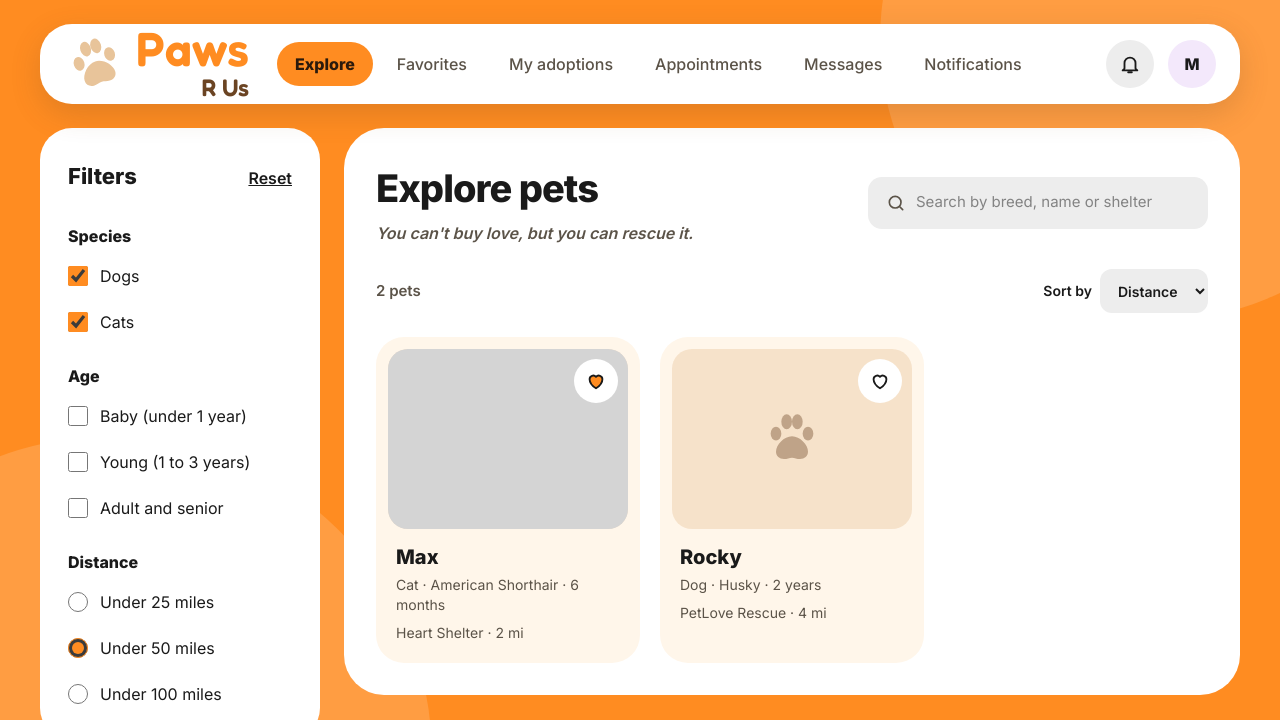
Test: App routing › hides dogs when the Dogs box is unticked
The image size is (1280, 720).
Click the checkbox labelled "Dogs" at [78, 276], box [68,266,88,286]
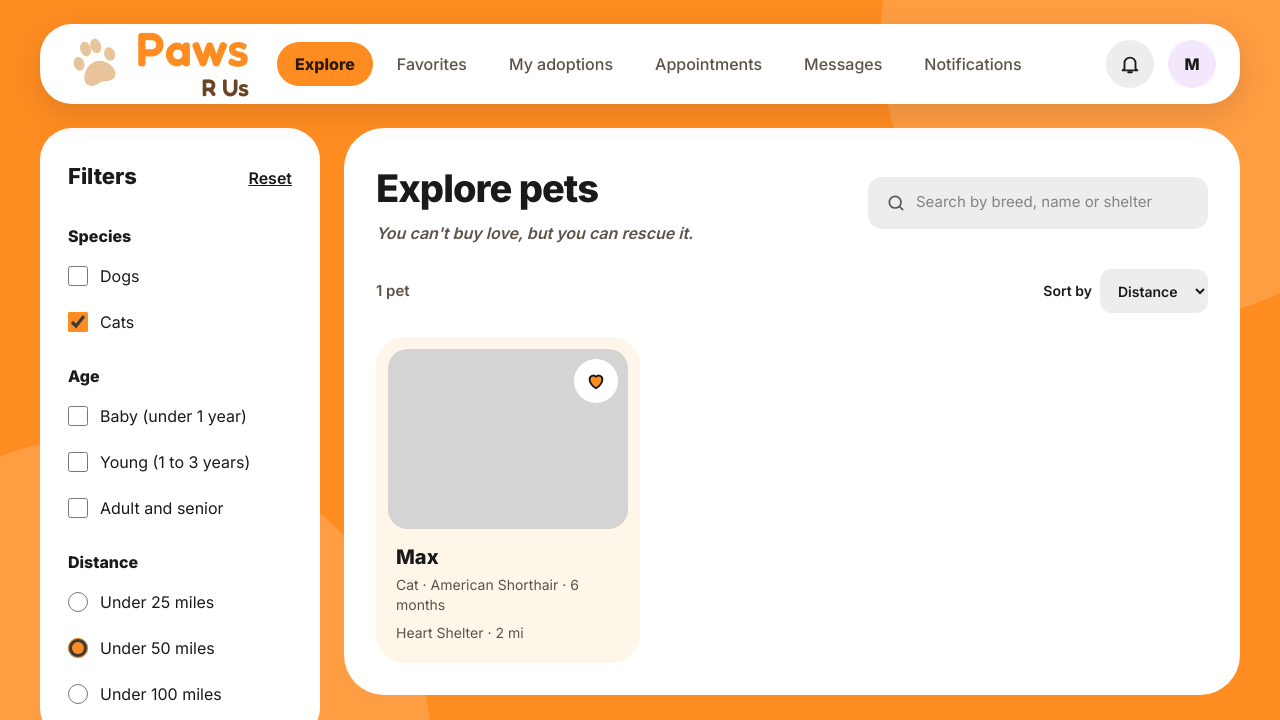
Check: the text "1 pet" is shown, box [376,280,410,302]
Check: the link "PetLove Rescue" is gone
